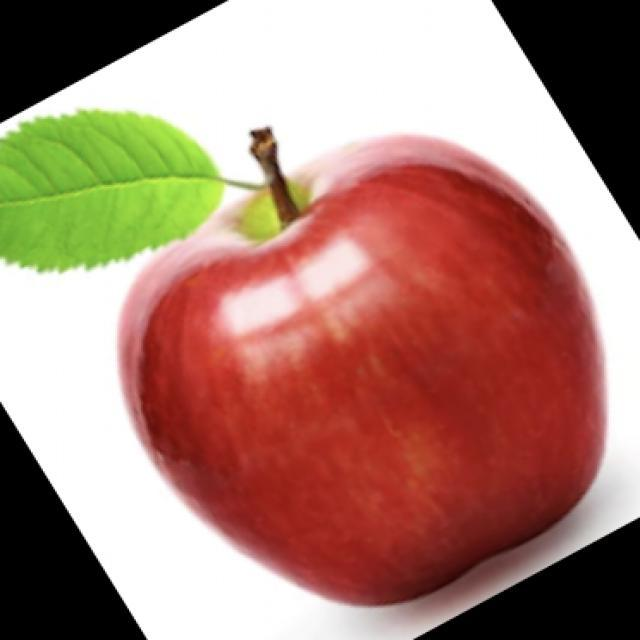Fresh Apple: (118, 135, 612, 593)
